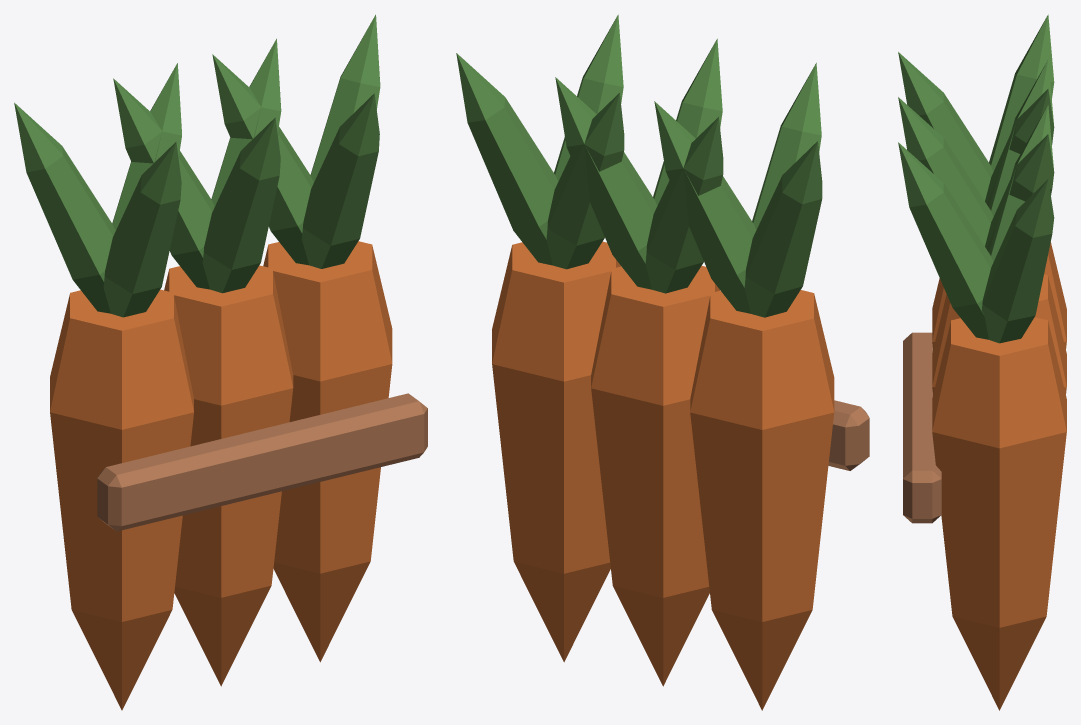
Rendered from 09_Carrot_Bundle.glb.
3 views of the same model, side by side, from view 1: azimuth 30°, elevation 25°; view 2: azimuth 150°, elevation 25°; view 3: azimuth 270°, elevation 25° (orthographic). The views are drawn at different scales.
Visible parts, largest first — view 1: 09_Carrot_Bundle__Body; view 2: 09_Carrot_Bundle__Body; view 3: 09_Carrot_Bundle__Body.
Boxes of the visible parts, box(x1,y1,x2,y2) form: 09_Carrot_Bundle__Body: box(14, 14, 427, 710); 09_Carrot_Bundle__Body: box(456, 14, 869, 710); 09_Carrot_Bundle__Body: box(898, 14, 1066, 710).
Bounding box in the file's own units: 0.8033 × 1.29 × 0.3473.
1 material, 1 textured.
